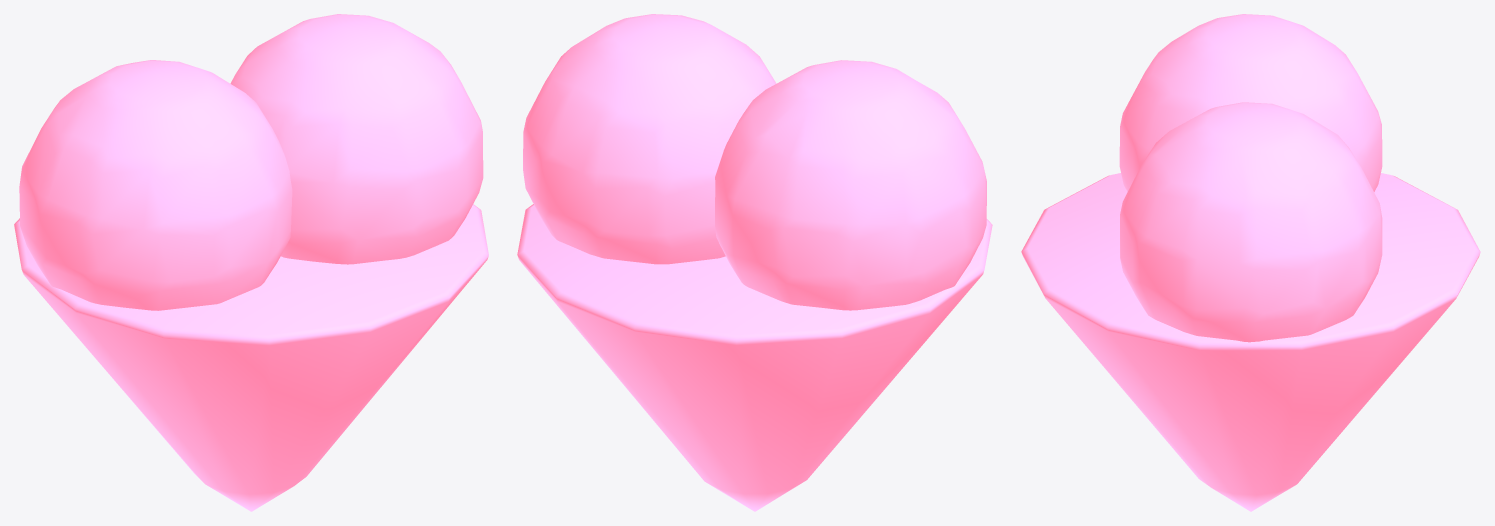
Rendered from VidaExtra.fbx.
3 renders of one model, left to right at view 1: azimuth 30°, elevation 25°; view 2: azimuth 150°, elevation 25°; view 3: azimuth 270°, elevation 25°, orthographic. The views are drawn at different scales.
Visible parts, largest first — view 1: VidaExtra; view 2: VidaExtra; view 3: VidaExtra.
Boxes of the visible parts, bbox=[...] form: VidaExtra: bbox=[14, 14, 488, 511]; VidaExtra: bbox=[517, 14, 992, 511]; VidaExtra: bbox=[1021, 14, 1480, 511].
Size of the model in its own units: 190 by 195 by 185.
